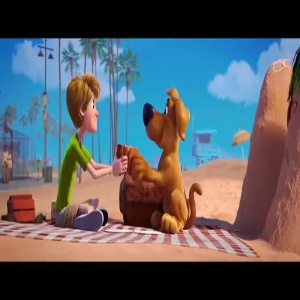Scooby: (141, 88, 193, 154)
Shagy: (63, 70, 105, 132)
